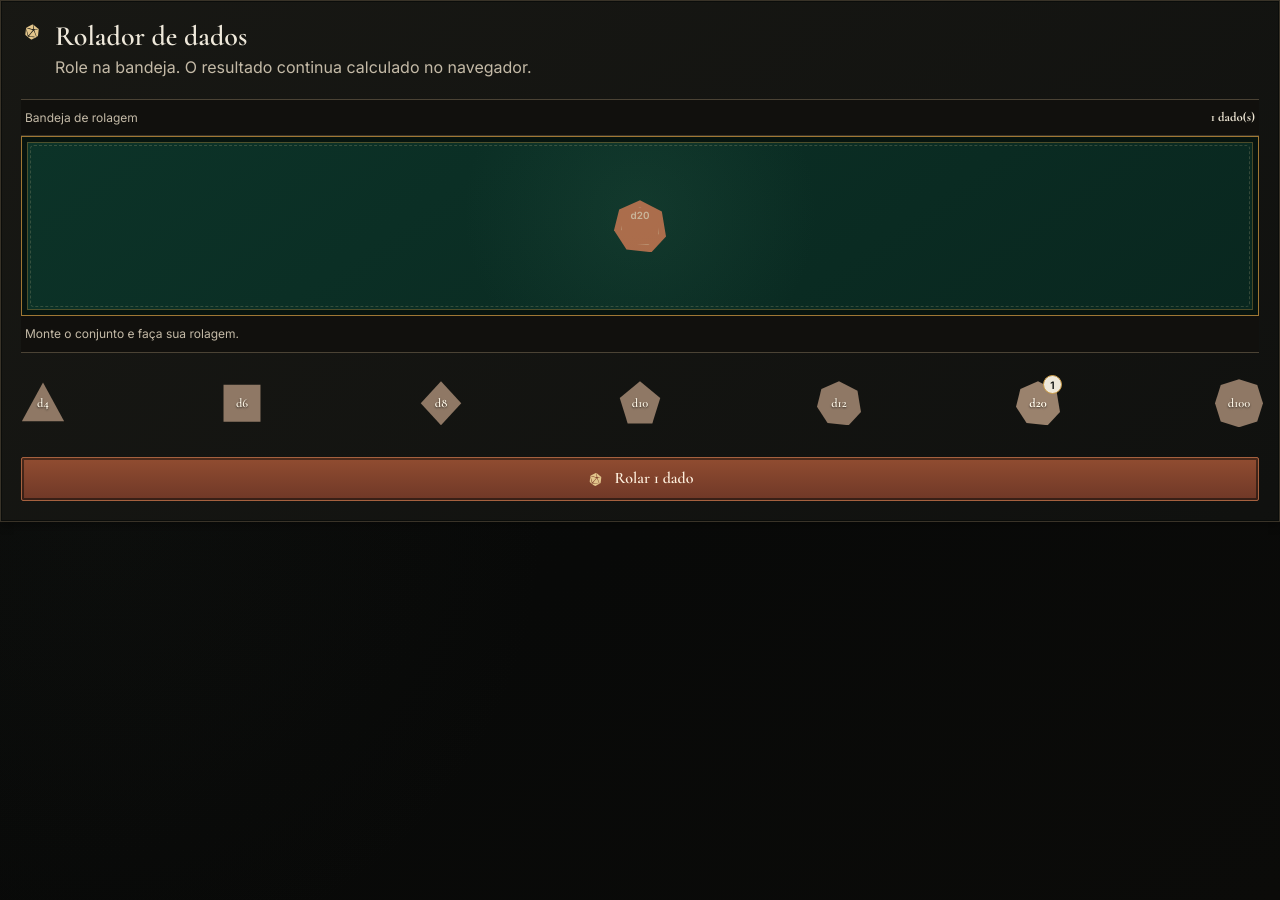
Test: rolador de dados › monta um conjunto com tipos diferentes e não oferece modificador
This screenshot has width=1280, height=900.
What coordinates should you click on to do the following:
click the button named "Adicionar d6"
I would click on:
 (242, 403)
Its box is [220,381,264,425].
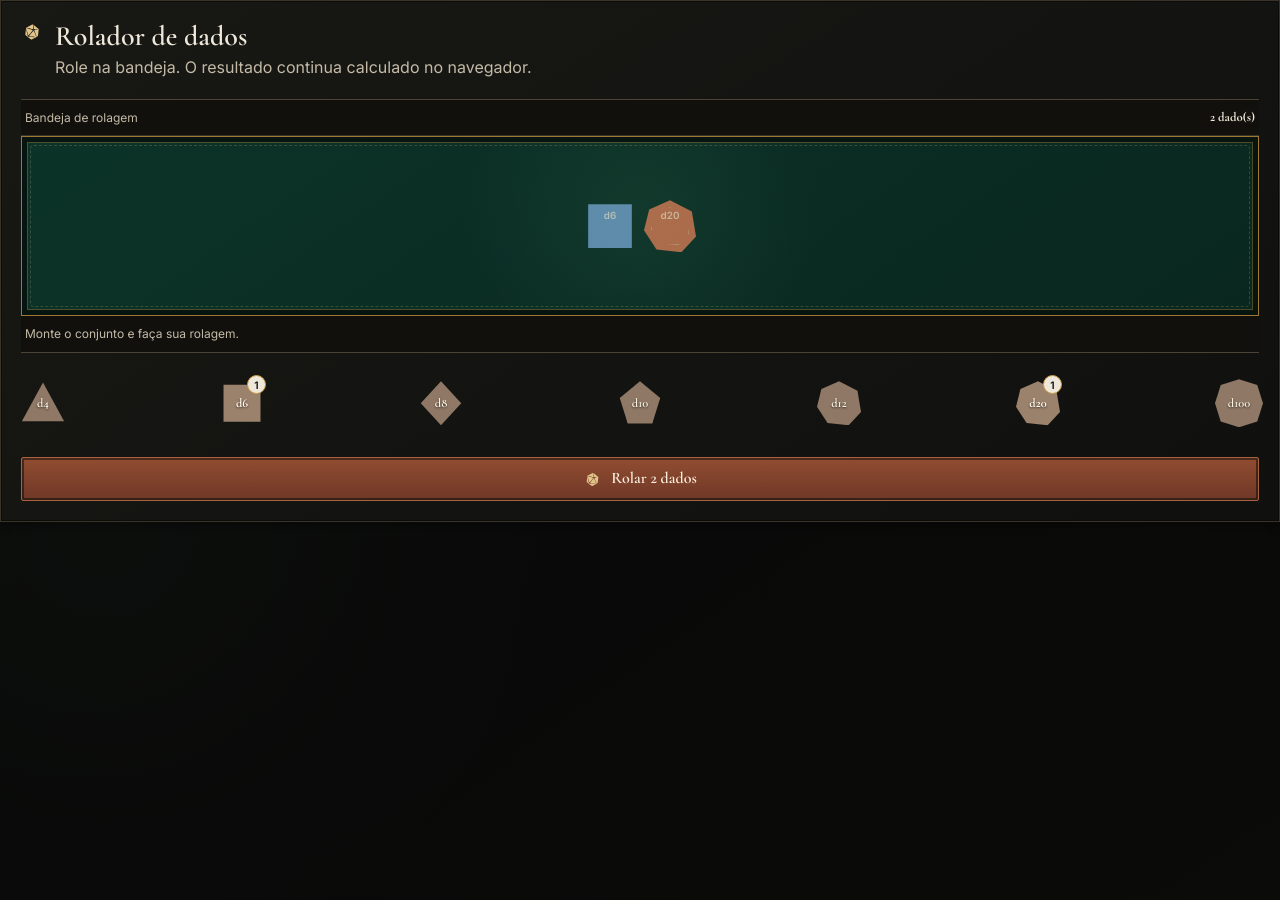
What coordinates should you click on to do the following:
click the button named "Adicionar d6"
I would click on:
 (242, 403)
Its box is [220,381,264,425].
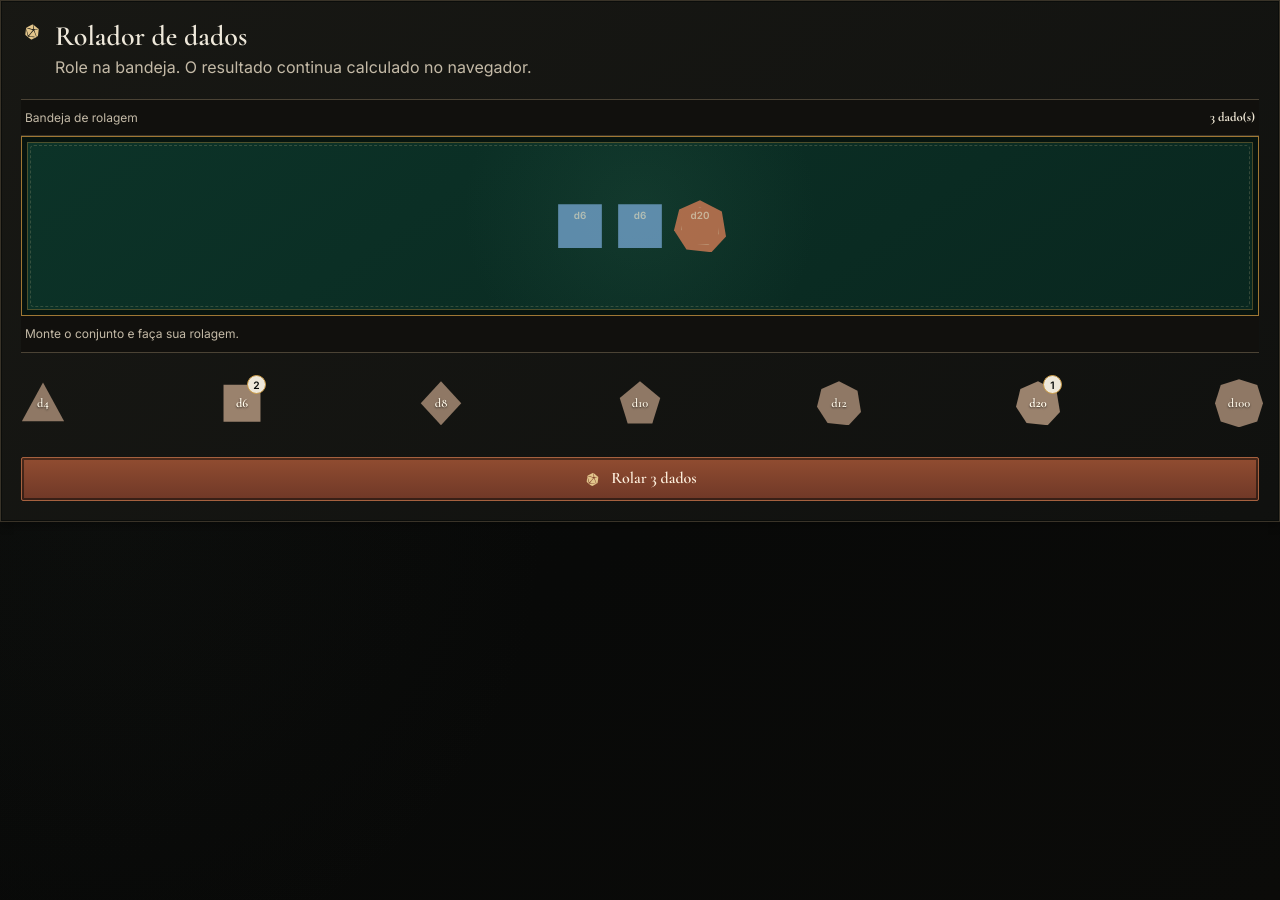
What coordinates should you click on to do the following:
click the button named "Adicionar d8"
I would click on:
 (441, 403)
Its box is [419,381,463,425].
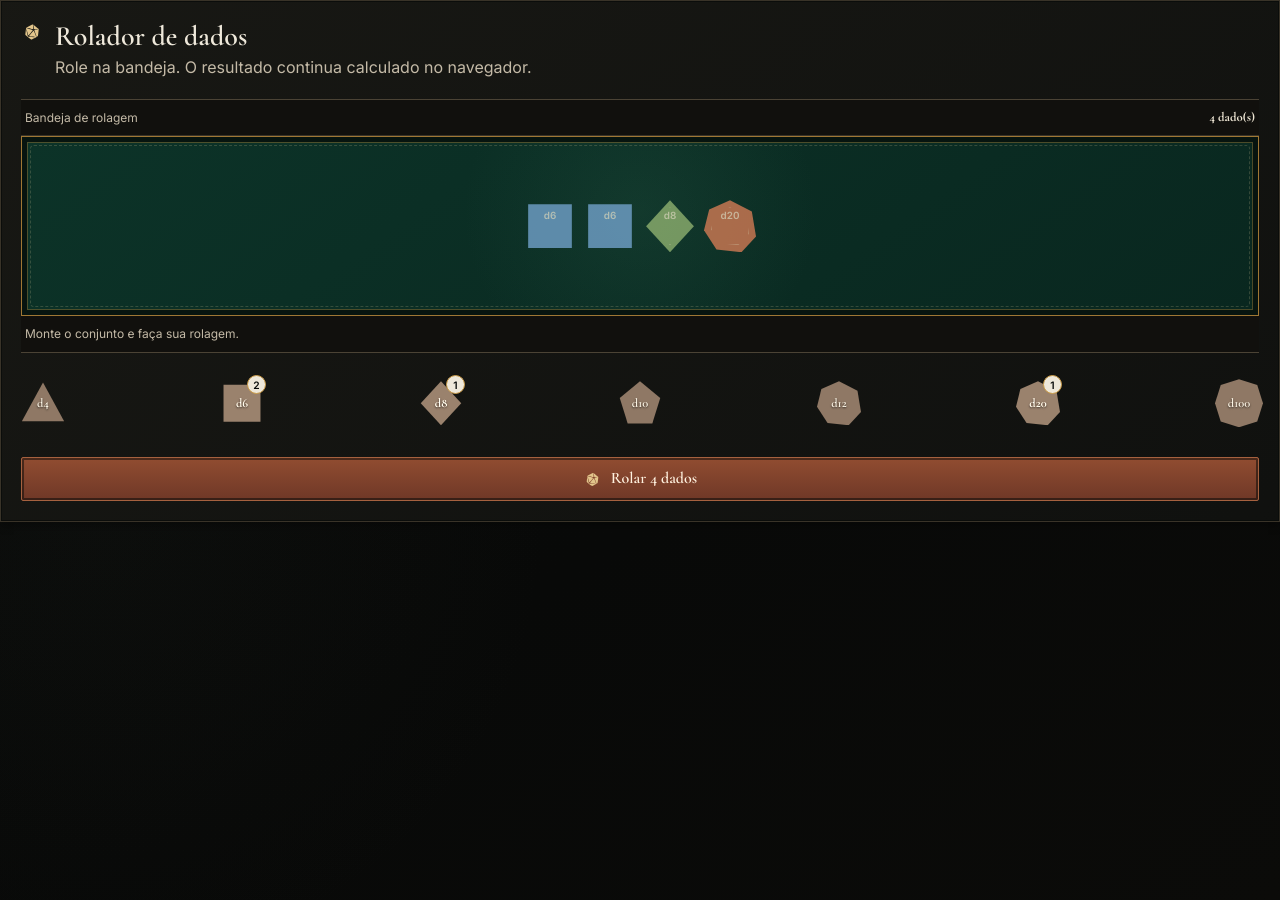
Now the button "Rolar 4 dados" is shown, box [21,457,1259,501]
What coordinates should you click on to do the following:
click the button named "Remover um d20 da bandeja"
I would click on:
 (730, 226)
Its box is [704,200,756,252].
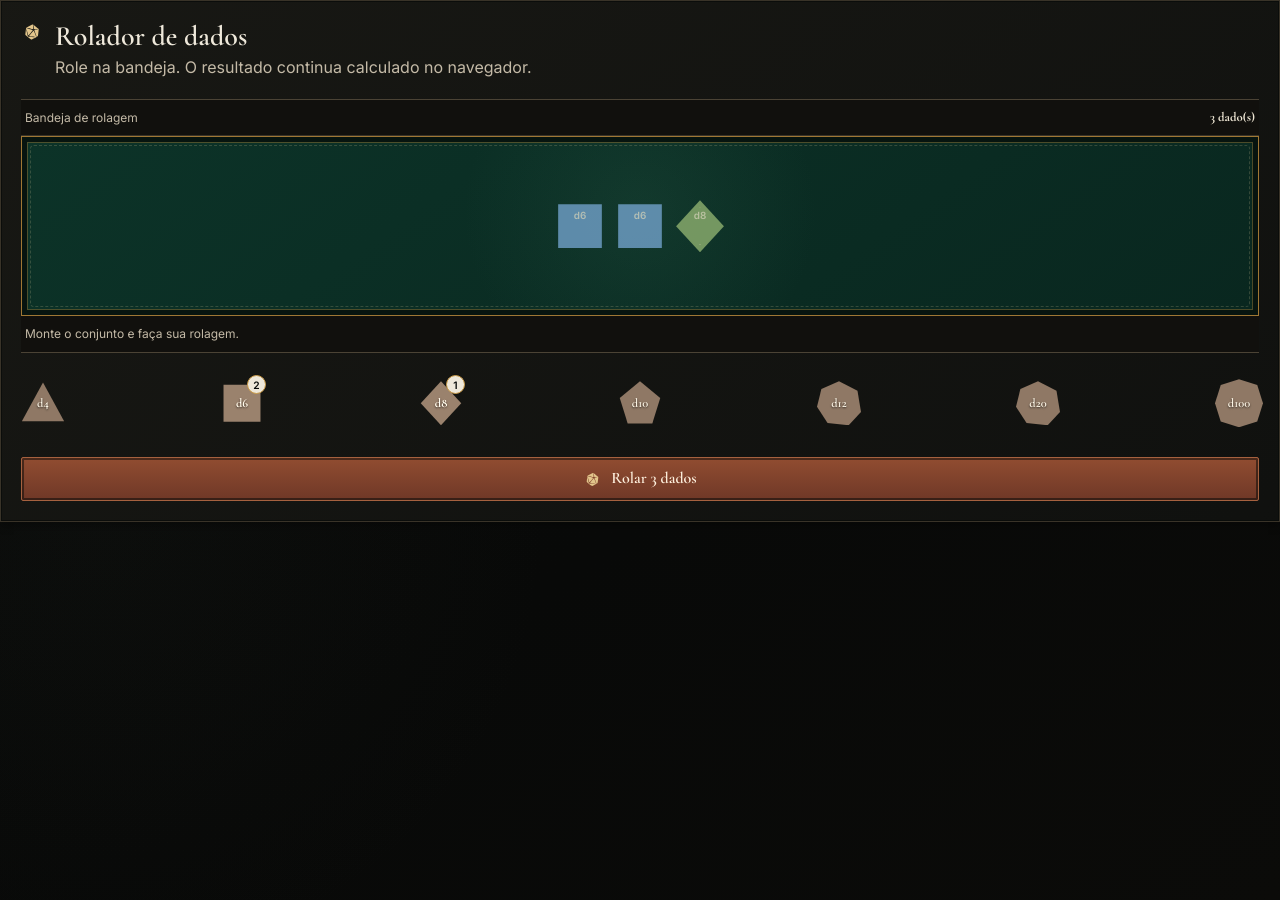
Now the button "Rolar 3 dados" is shown, box [21,457,1259,501]
